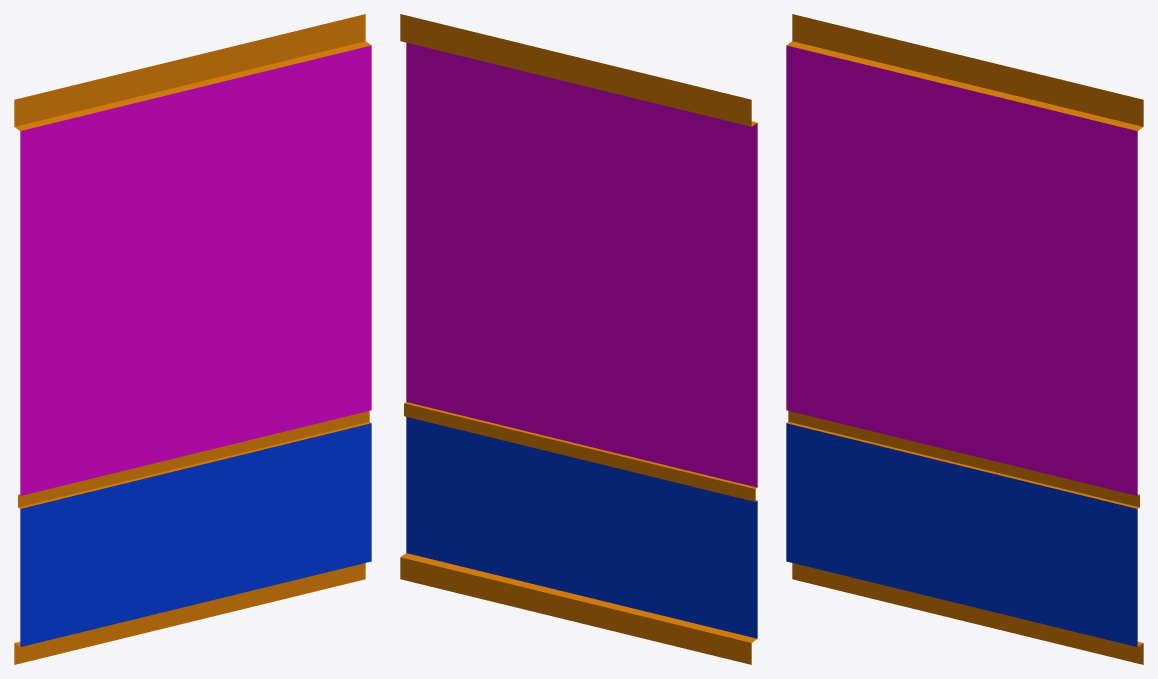
File: Unit_Wall.fbx
The picture shows the model from 3 angles, left to right: view 1: azimuth 30°, elevation 25°; view 2: azimuth 150°, elevation 25°; view 3: azimuth 330°, elevation 25°; orthographic projection.
Visible parts, largest first — view 1: Unit_Wall; view 2: Unit_Wall; view 3: Unit_Wall.
Boxes of the visible parts, x1,y1,x2,y2 form: Unit_Wall: (14, 14, 371, 664); Unit_Wall: (400, 14, 757, 664); Unit_Wall: (786, 14, 1143, 664).
Size of the model in its own units: 2 by 3.07 by 0.0569.
